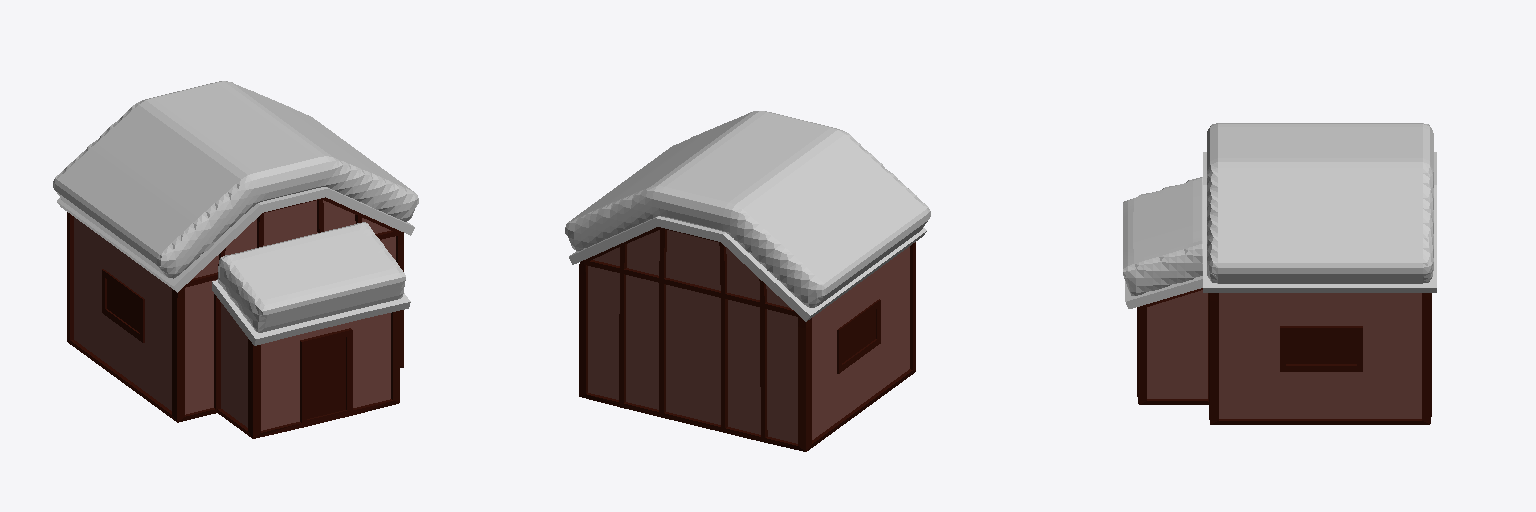
The model's file is House_5.obj.
3 renders of one model, left to right at view 1: azimuth 30°, elevation 25°; view 2: azimuth 150°, elevation 25°; view 3: azimuth 270°, elevation 25°, orthographic.
Visible parts, largest first — view 1: Snow_on_Roof_3, Base_Building_3, Frame_3, Roof_3, Door_3, Window_3_1; view 2: Base_Building_3, Snow_on_Roof_3, Frame_3, Roof_3, Window_3_1; view 3: Snow_on_Roof_3, Base_Building_3, Frame_3, Roof_3, Window_3_2.
Part boxes in pixels (left/top/right/bottom): Snow_on_Roof_3: left=53, top=81, right=418, bottom=332; Base_Building_3: left=74, top=200, right=395, bottom=430; Frame_3: left=67, top=197, right=403, bottom=438; Roof_3: left=57, top=187, right=414, bottom=345; Door_3: left=300, top=328, right=352, bottom=426; Window_3_1: left=102, top=269, right=144, bottom=342; Base_Building_3: left=588, top=230, right=909, bottom=443; Snow_on_Roof_3: left=565, top=111, right=930, bottom=307; Frame_3: left=579, top=227, right=915, bottom=451; Roof_3: left=569, top=216, right=926, bottom=321; Window_3_1: left=837, top=299, right=880, bottom=373; Snow_on_Roof_3: left=1123, top=123, right=1433, bottom=295; Base_Building_3: left=1147, top=290, right=1421, bottom=418; Frame_3: left=1137, top=288, right=1431, bottom=424; Roof_3: left=1125, top=152, right=1436, bottom=308; Window_3_2: left=1280, top=326, right=1362, bottom=371.
Bounding box in the file's own units: 1.4 × 1.17 × 1.47.